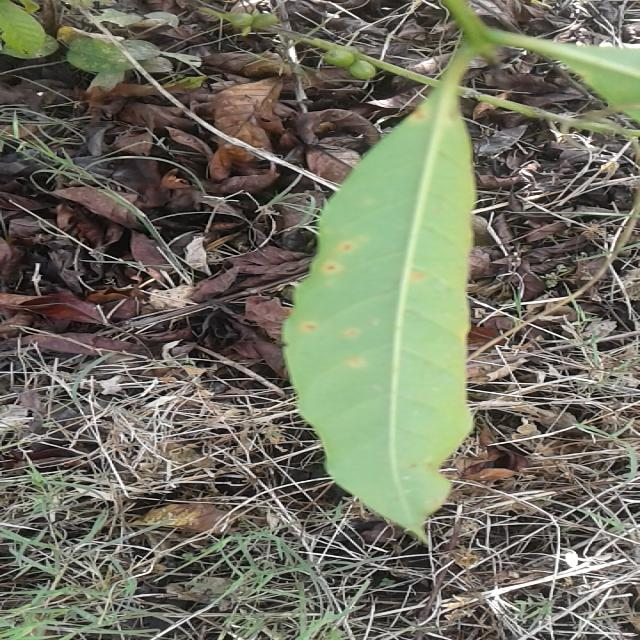Enfermedad-Roya: (282, 0, 498, 540)
